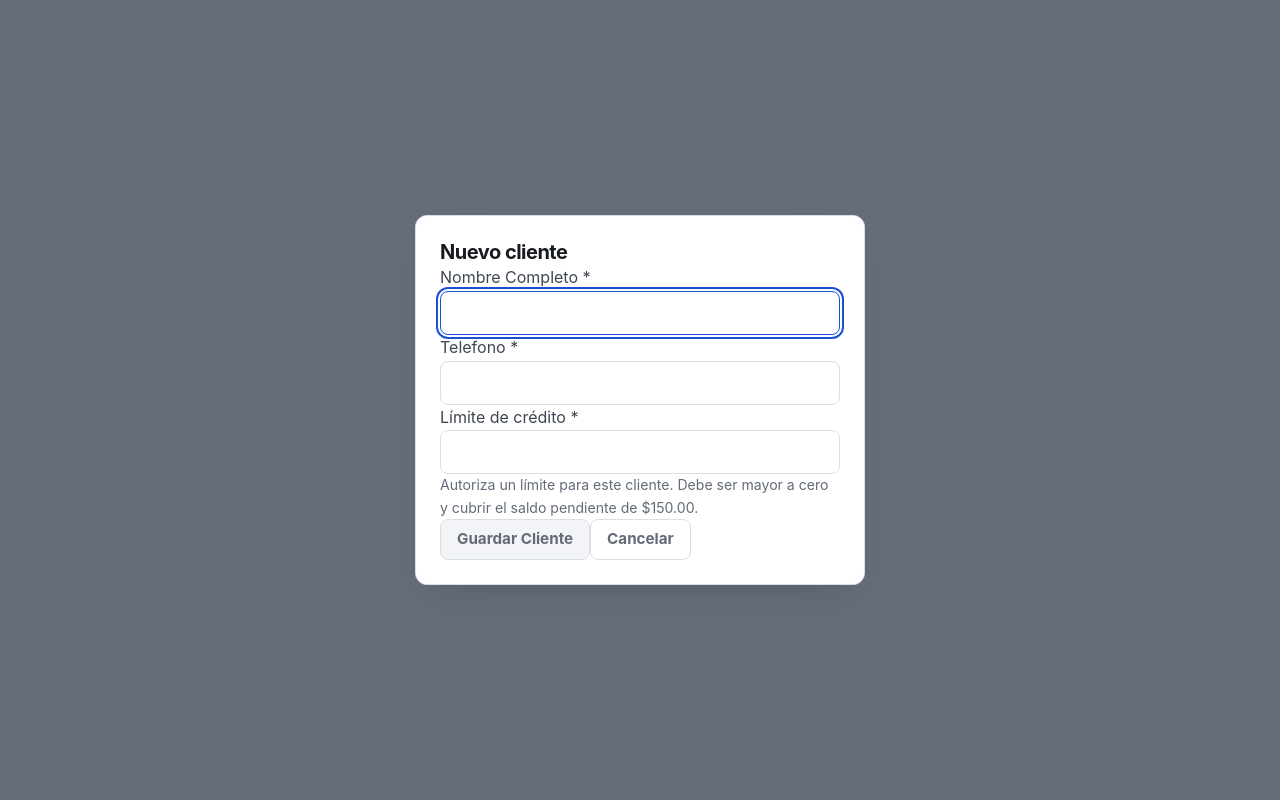
Test: QuickAddCustomerModal › keeps the dialog open and shows the duplicate telephone error without reporting a saved customer
Type "Cliente QA 3C" into the field labelled "Nombre Completo *" at (640, 313), box [440,291,840,335]
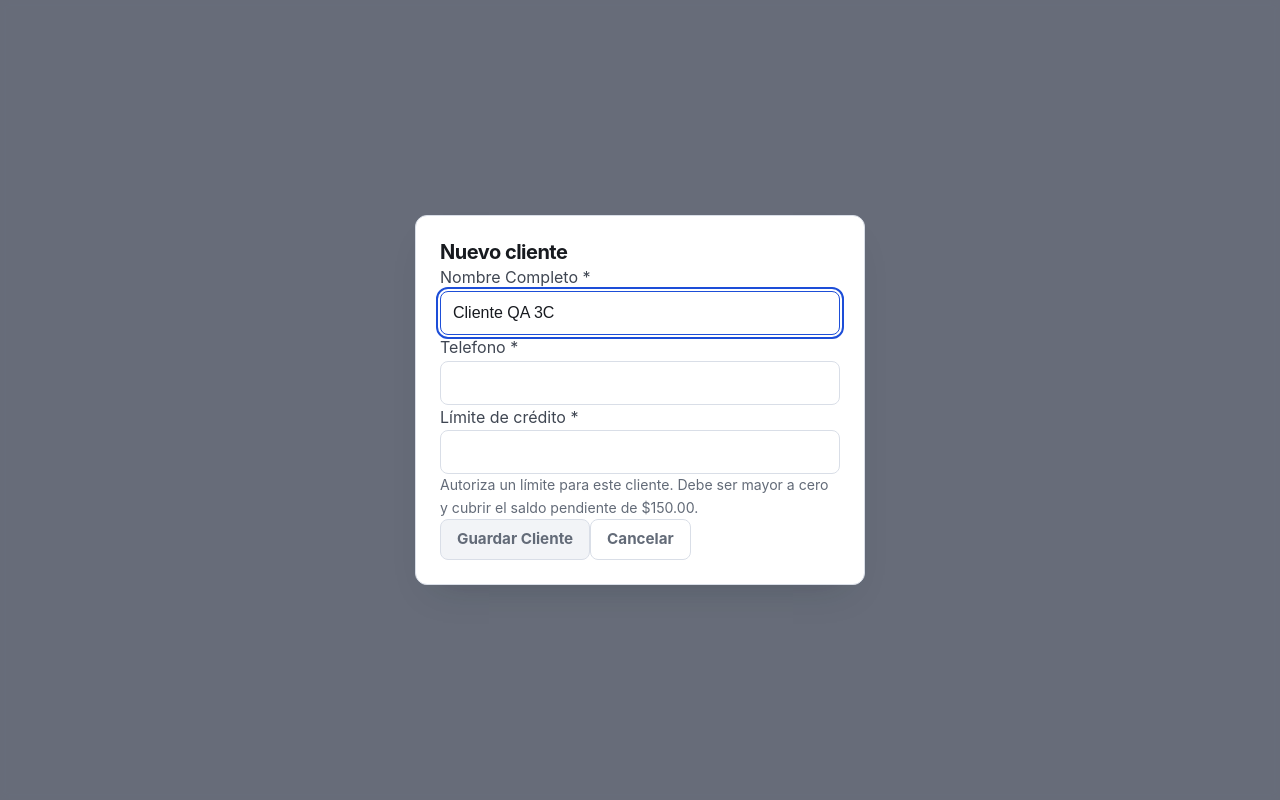
Type "5551234567" into the field labelled "Telefono *" at (640, 383), box [440,361,840,405]
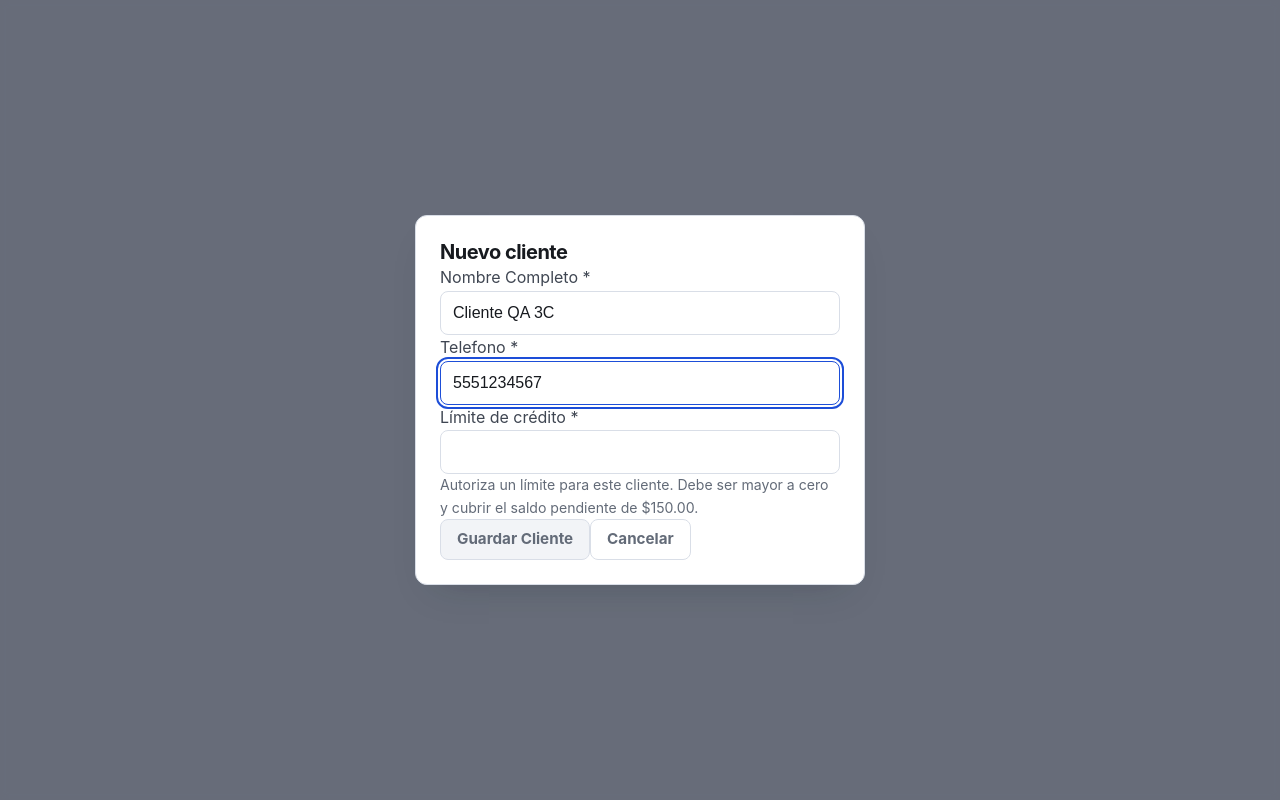
Type "500" into the field labelled "Límite de crédito *" at (640, 452), box [440,430,840,474]
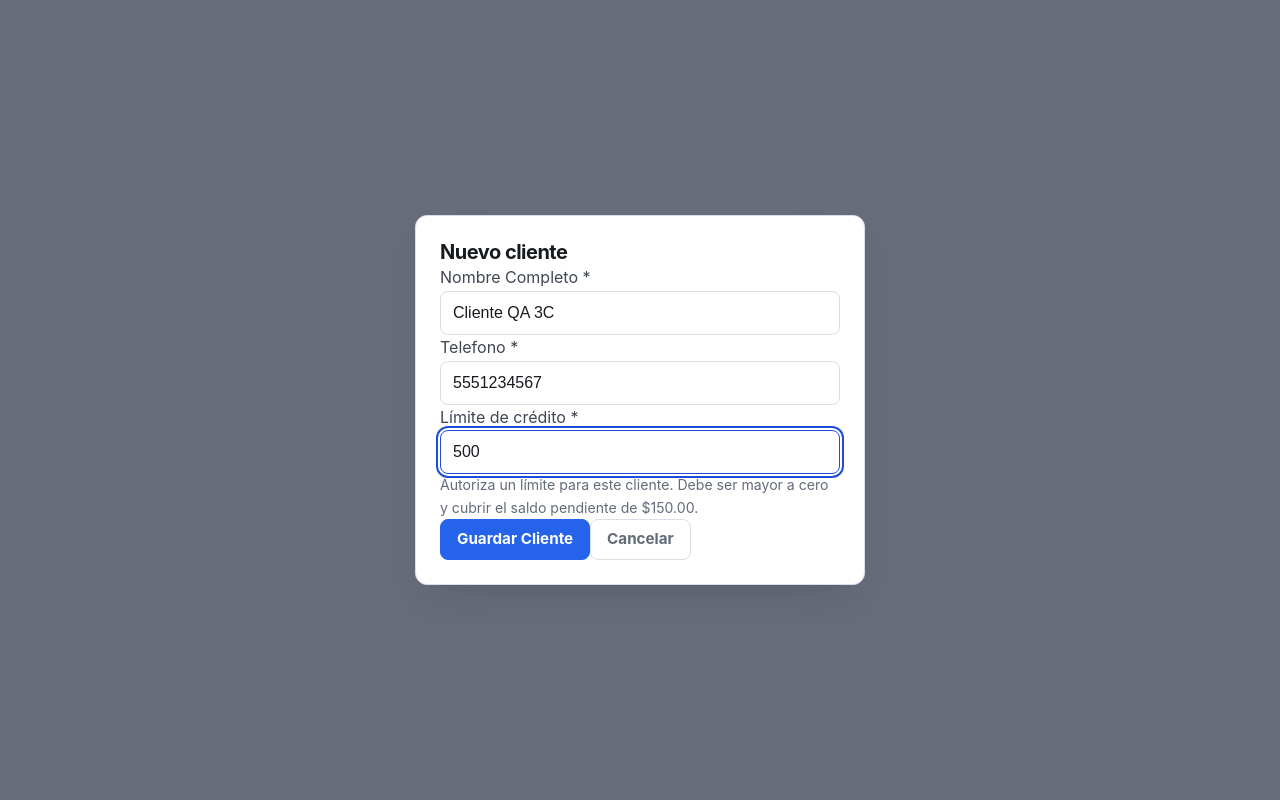
Click the button "Guardar Cliente" at (515, 539), box [440,519,590,560]
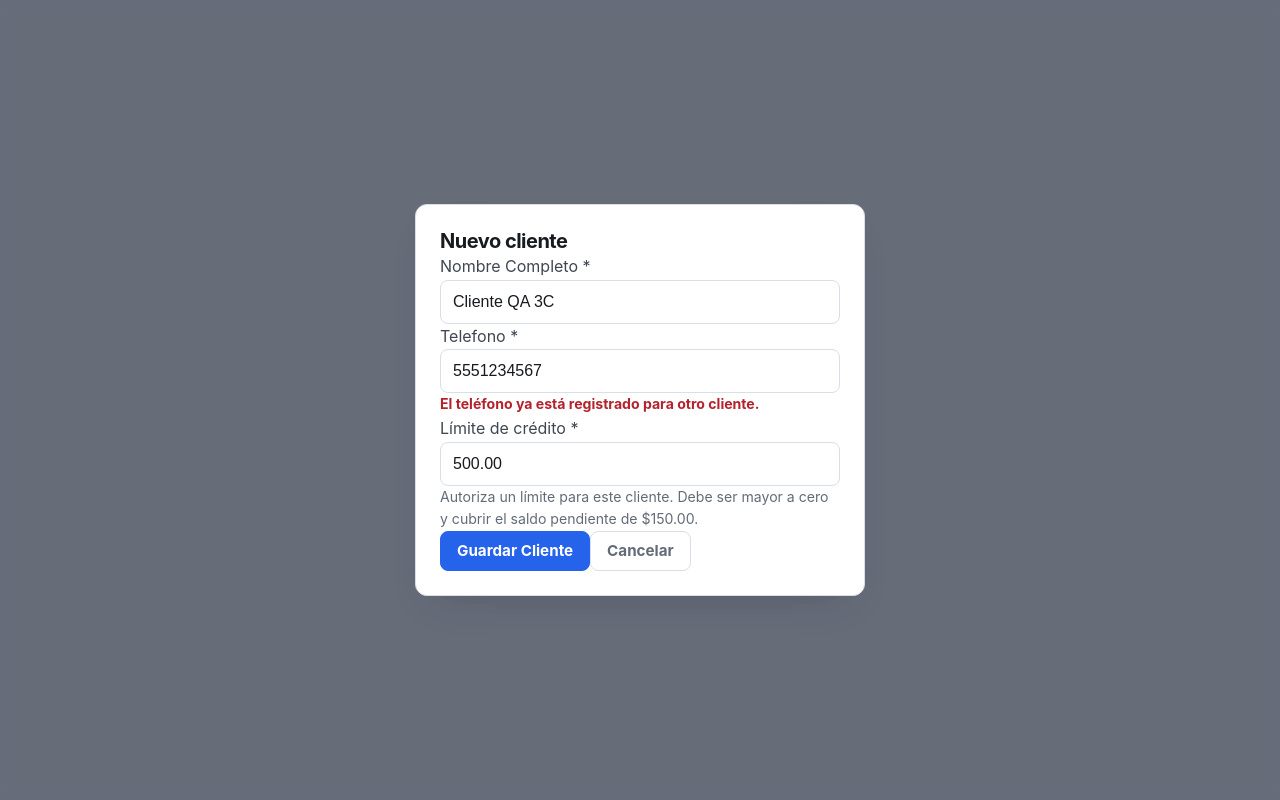
Expected: the dialog "Nuevo cliente" is shown, [415,204,865,596]
Expected: the field labelled "Límite de crédito *" holds "500.00", [440,442,840,486]
